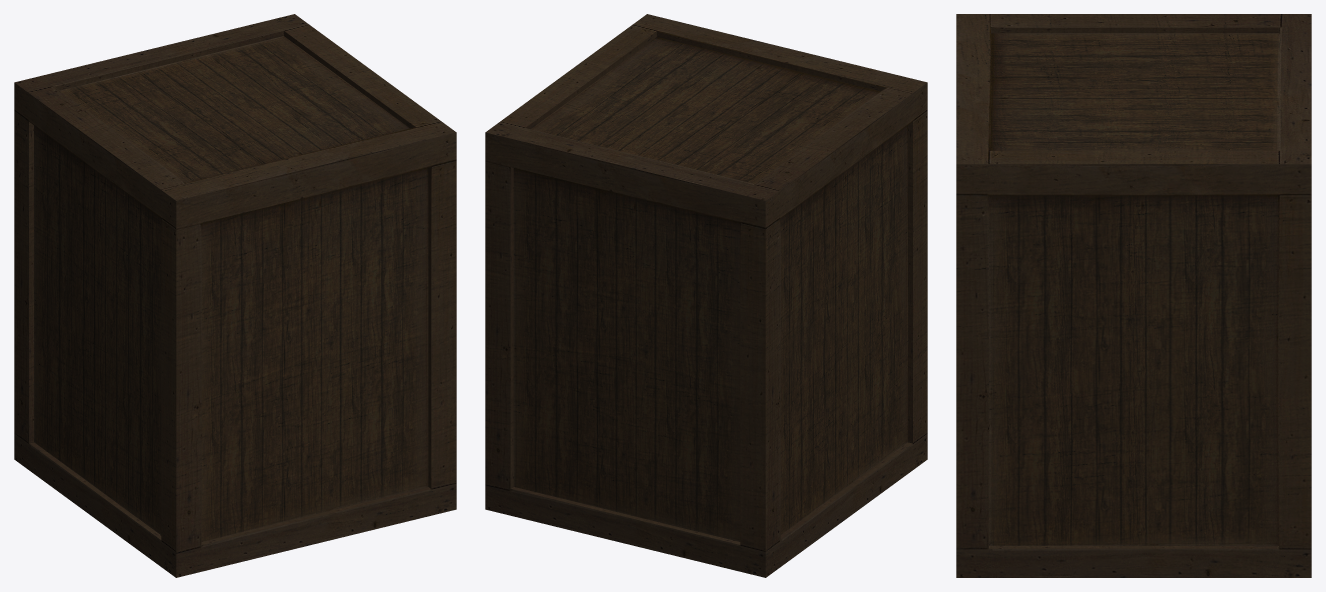
The model's file is wooden_crate_hx_2_1.dae.
3 renders of one model, left to right at view 1: azimuth 30°, elevation 25°; view 2: azimuth 150°, elevation 25°; view 3: azimuth 270°, elevation 25°, orthographic. The views are drawn at different scales.
Visible parts, largest first — view 1: wooden_crate_hx_2_1; view 2: wooden_crate_hx_2_1; view 3: wooden_crate_hx_2_1.
Part boxes in pixels (bbox=[...]): wooden_crate_hx_2_1: bbox=[14, 14, 456, 577]; wooden_crate_hx_2_1: bbox=[485, 14, 927, 577]; wooden_crate_hx_2_1: bbox=[956, 14, 1311, 577].
Size of the model in its own units: 1.4 by 1.4 by 1.8.
1 material, 1 textured.
